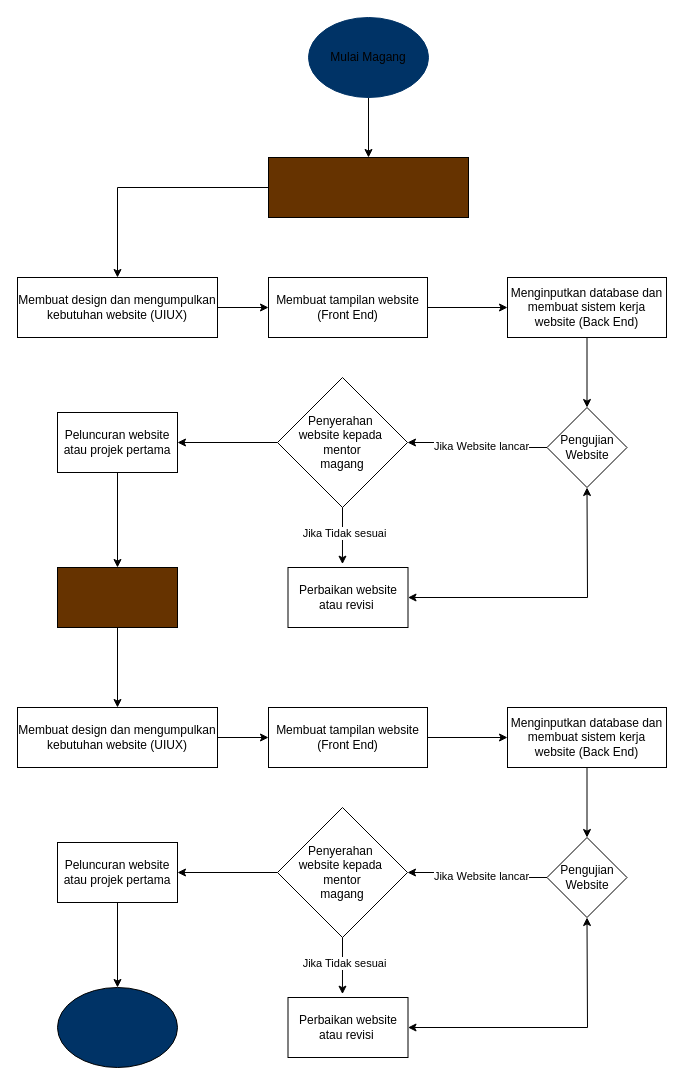
This 684x1085 diagram has some shape labels left out. Here are the shapes that lost their labels. From the top down, the centre of each, then its label:
point (368, 187): Projek Pertama Membuat Customer Reationship Management (CMR)
point (117, 597): Projek Kedua Content Management System (CMS)
point (117, 1027): Selesai Magang
